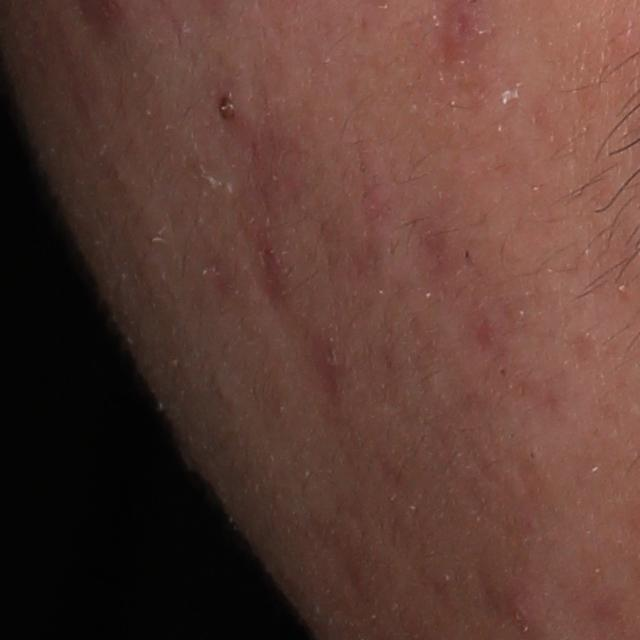comedo: (211, 94, 244, 126)
papule: (501, 571, 541, 627)
